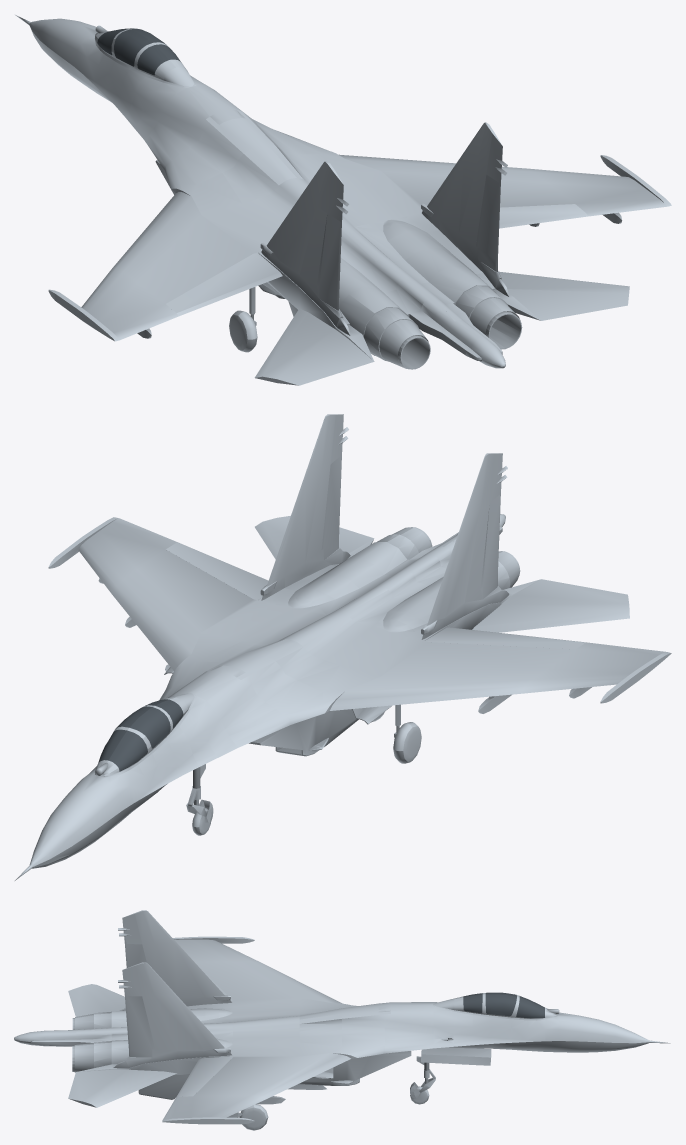
3 views of the same model, one above another, from view 1: azimuth 30°, elevation 25°; view 2: azimuth 150°, elevation 25°; view 3: azimuth 270°, elevation 25° (orthographic). The views are drawn at different scales.
Parts seen in each view (by area): view 1: Body, GearMesh; view 2: Body, GearMesh; view 3: Body, GearMesh.
Boxes of the visible parts, <box> form: Body: <box>15,15,671,385</box>; GearMesh: <box>229,287,257,352</box>; Body: <box>15,414,671,880</box>; GearMesh: <box>164,664,421,835</box>; Body: <box>14,910,670,1124</box>; GearMesh: <box>239,1047,491,1130</box>.
Size of the model in its own units: 14.37 by 6.16 by 21.9.
